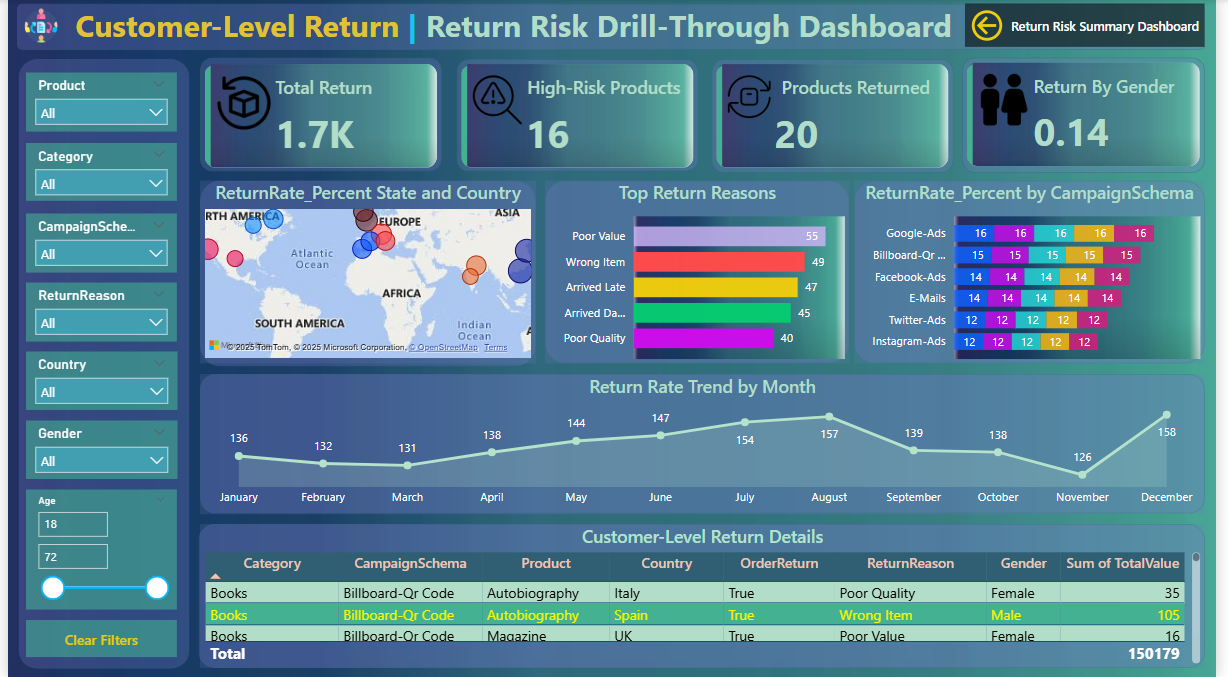

The page's visual inventory and layout, read from the dashboard file:
{"tool":"powerbi","page":{"name":"Product Return Behaviour","canvas":[1280,720],"ordinal":1},"visuals":[{"type":"shape","box":[1011.6,62.2,257.7,122.5],"z":0,"group":"g1"},{"type":"shape","box":[202,556.7,1067.3,152.7],"z":0},{"type":"shape","box":[745.7,63.6,256.7,120.9],"z":1000,"group":"g1"},{"type":"shape","box":[203.6,397.7,1065.7,147.9],"z":1000},{"type":"shape","box":[476.2,63.6,256.7,119.3],"z":2000,"group":"g1"},{"type":"shape","box":[897.1,192.5,372.2,194.1],"z":2000},{"type":"shape","box":[203.6,62,256.7,120.9],"z":3000,"group":"g1"},{"type":"shape","box":[569.4,192.5,322.9,194.1],"z":3000},{"type":"cardVisual","title":"Total Orders","fields":{"Data":["CountNonNull(Cleaned_Customer360Insights.OrderReturn)"]},"box":[203.6,63.6,256.7,120.9],"z":4000,"group":"g1"},{"type":"shape","box":[203.6,192.5,356.3,197.2],"z":4000},{"type":"cardVisual","fields":{"Data":["CountNonNull(High_Risk_Products.Product)"]},"box":[476.2,63.6,256.7,120.9],"z":5000,"group":"g1"},{"type":"shape","box":[11.5,64.3,181.4,646.6],"z":5000},{"type":"cardVisual","fields":{"Data":["_Measures.ReturnRate_ByGender"]},"box":[1011.6,62.2,257.7,120.9],"z":6000,"group":"g1"},{"type":"areaChart","title":"Return Rate Trend by Month","fields":{"Category":["Cleaned_Customer360Insights.CartAdditionDate.Variation.Date Hierarchy.Month"],"Y":["CountNonNull(Cleaned_Customer360Insights.OrderReturn)"]},"box":[202.9,397.5,1065.6,148.5],"z":6000},{"type":"cardVisual","fields":{"Data":["_Measures.Unique Products Returned"]},"box":[745.7,63.6,256.7,120.9],"z":7000,"group":"g1"},{"type":"shape","box":[9.5,4.8,1259.8,49.3],"z":7000},{"type":"barChart","title":"Top Return Reasons","fields":{"Y":["CountNonNull(Cleaned_Customer360Insights.OrderReturn)"],"Category":["Cleaned_Customer360Insights.ReturnReason"]},"box":[569.4,192.5,322.9,194.1],"z":8000},{"type":"barChart","title":" ReturnRate_Percent by CampaignSchema ","fields":{"Category":["ReturnRate_By_Channel.CampaignSchema"],"Y":["Avg(ReturnRate_By_Channel.ReturnRate_Percent)"],"Series":["Cleaned_Customer360Insights.Category"]},"box":[897.1,192.5,372.2,194.1],"z":9000},{"type":"tableEx","title":" Customer-Level Return Details","fields":{"Values":["Cleaned_Customer360Insights.Category","Cleaned_Customer360Insights.CampaignSchema","Cleaned_Customer360Insights.Product","Cleaned_Customer360Insights.Country","Cleaned_Customer360Insights.OrderReturn","Cleaned_Customer360Insights.ReturnReason","Cleaned_Customer360Insights.Gender","Sum(Cleaned_Customer360Insights.TotalValue)"]},"box":[203.6,556.7,1065.7,152.7],"z":10000},{"type":"map","title":" ReturnRate_Percent  State and Country","fields":{"Category":["ReturnRate_By_Geography.State"],"Size":["Avg(ReturnRate_By_Geography.ReturnRate_Percent)"],"Series":["ReturnRate_By_Geography.Country"]},"box":[203.6,192.5,356.3,194.1],"z":11000},{"type":"actionButton","box":[1014.4,4.9,254,46.2],"z":12000},{"type":"group","id":"g1","title":"Group 1","box":[203.6,62,1065.7,122.5],"z":13000},{"type":"textbox","box":[62.7,0,948.5,54.4],"z":14000},{"type":"image","box":[11.5,4.9,47.8,46.2],"z":15000},{"type":"slicer","fields":{"Values":["Cleaned_Customer360Insights.Product"]},"box":[19.8,77.5,160,62.7],"z":16000},{"type":"slicer","fields":{"Values":["Cleaned_Customer360Insights.Category"]},"box":[19.8,153.4,160,61],"z":17000},{"type":"slicer","fields":{"Values":["Cleaned_Customer360Insights.CampaignSchema"]},"box":[19.8,227.6,160,62.7],"z":18000},{"type":"slicer","fields":{"Values":["Cleaned_Customer360Insights.ReturnReason"]},"box":[19.8,300.2,160,62.7],"z":19000},{"type":"slicer","fields":{"Values":["Cleaned_Customer360Insights.Country"]},"box":[19.1,373.8,160.7,62],"z":20000},{"type":"slicer","fields":{"Values":["Cleaned_Customer360Insights.Gender"]},"box":[19.1,447,160.7,62],"z":21000},{"type":"slicer","fields":{"Values":["Cleaned_Customer360Insights.Age"]},"box":[19.8,519.6,160,127],"z":22000},{"type":"actionButton","box":[19.8,658.1,160,39.6],"z":23000}]}

Visuals, with their boxes in screenshot pixels (x1, y1, x2, y2), scaled from the page's 1280x720 canvas onto the 1228x677 screenshot:
shape: bbox=[971, 58, 1218, 174]
shape: bbox=[194, 523, 1218, 667]
shape: bbox=[715, 60, 962, 173]
shape: bbox=[195, 374, 1218, 513]
shape: bbox=[457, 60, 703, 172]
shape: bbox=[861, 181, 1218, 364]
shape: bbox=[195, 58, 442, 172]
shape: bbox=[546, 181, 856, 364]
"Total Orders" cardVisual: bbox=[195, 60, 442, 173]
shape: bbox=[195, 181, 537, 366]
cardVisual - CountNonNull(High_Risk_Products.Product): bbox=[457, 60, 703, 173]
shape: bbox=[11, 60, 185, 668]
cardVisual - _Measures.ReturnRate_ByGender: bbox=[971, 58, 1218, 172]
"Return Rate Trend by Month" areaChart: bbox=[195, 374, 1217, 513]
cardVisual - _Measures.Unique Products Returned: bbox=[715, 60, 962, 173]
shape: bbox=[9, 5, 1218, 51]
"Top Return Reasons" barChart: bbox=[546, 181, 856, 364]
" ReturnRate_Percent by CampaignSchema " barChart: bbox=[861, 181, 1218, 364]
" Customer-Level Return Details" tableEx: bbox=[195, 523, 1218, 667]
" ReturnRate_Percent  State and Country" map: bbox=[195, 181, 537, 364]
actionButton: bbox=[973, 5, 1217, 48]
"Group 1" group: bbox=[195, 58, 1218, 173]
textbox: bbox=[60, 0, 970, 51]
image: bbox=[11, 5, 57, 48]
slicer - Cleaned_Customer360Insights.Product: bbox=[19, 73, 172, 132]
slicer - Cleaned_Customer360Insights.Category: bbox=[19, 144, 172, 202]
slicer - Cleaned_Customer360Insights.CampaignSchema: bbox=[19, 214, 172, 273]
slicer - Cleaned_Customer360Insights.ReturnReason: bbox=[19, 282, 172, 341]
slicer - Cleaned_Customer360Insights.Country: bbox=[18, 351, 172, 410]
slicer - Cleaned_Customer360Insights.Gender: bbox=[18, 420, 172, 479]
slicer - Cleaned_Customer360Insights.Age: bbox=[19, 489, 172, 608]
actionButton: bbox=[19, 619, 172, 656]
